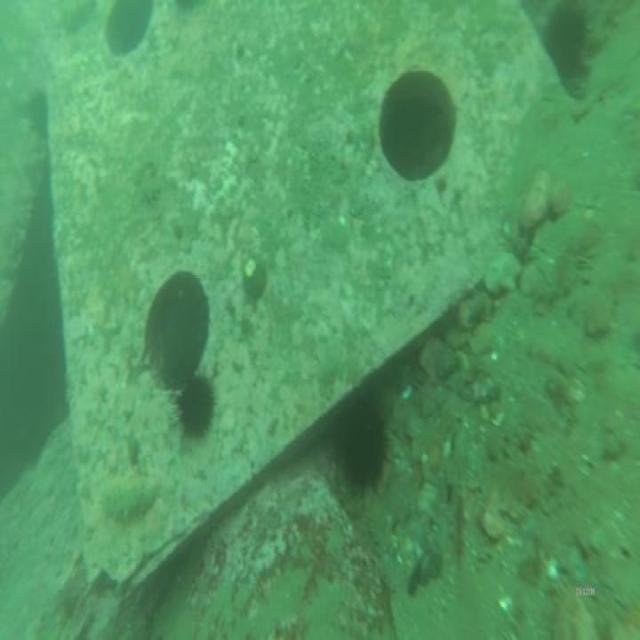echinus: (323, 389, 397, 507), (169, 365, 221, 447)
holothurian: (101, 476, 161, 532)
